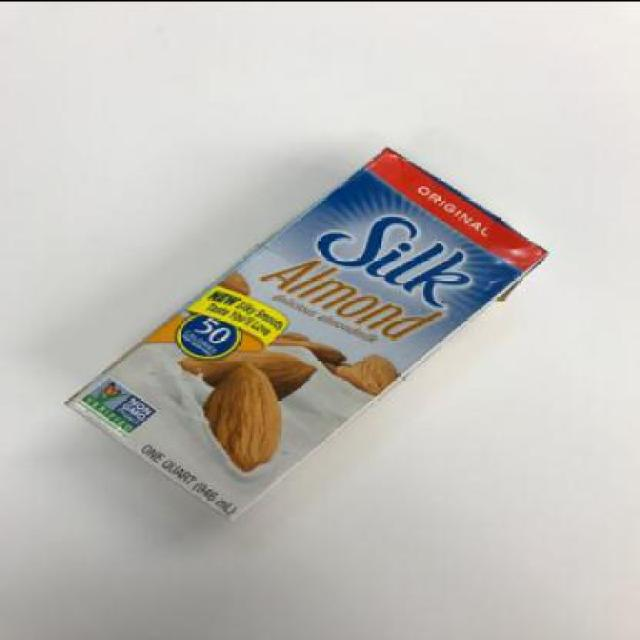CARDBOARD: (67, 144, 550, 519)
